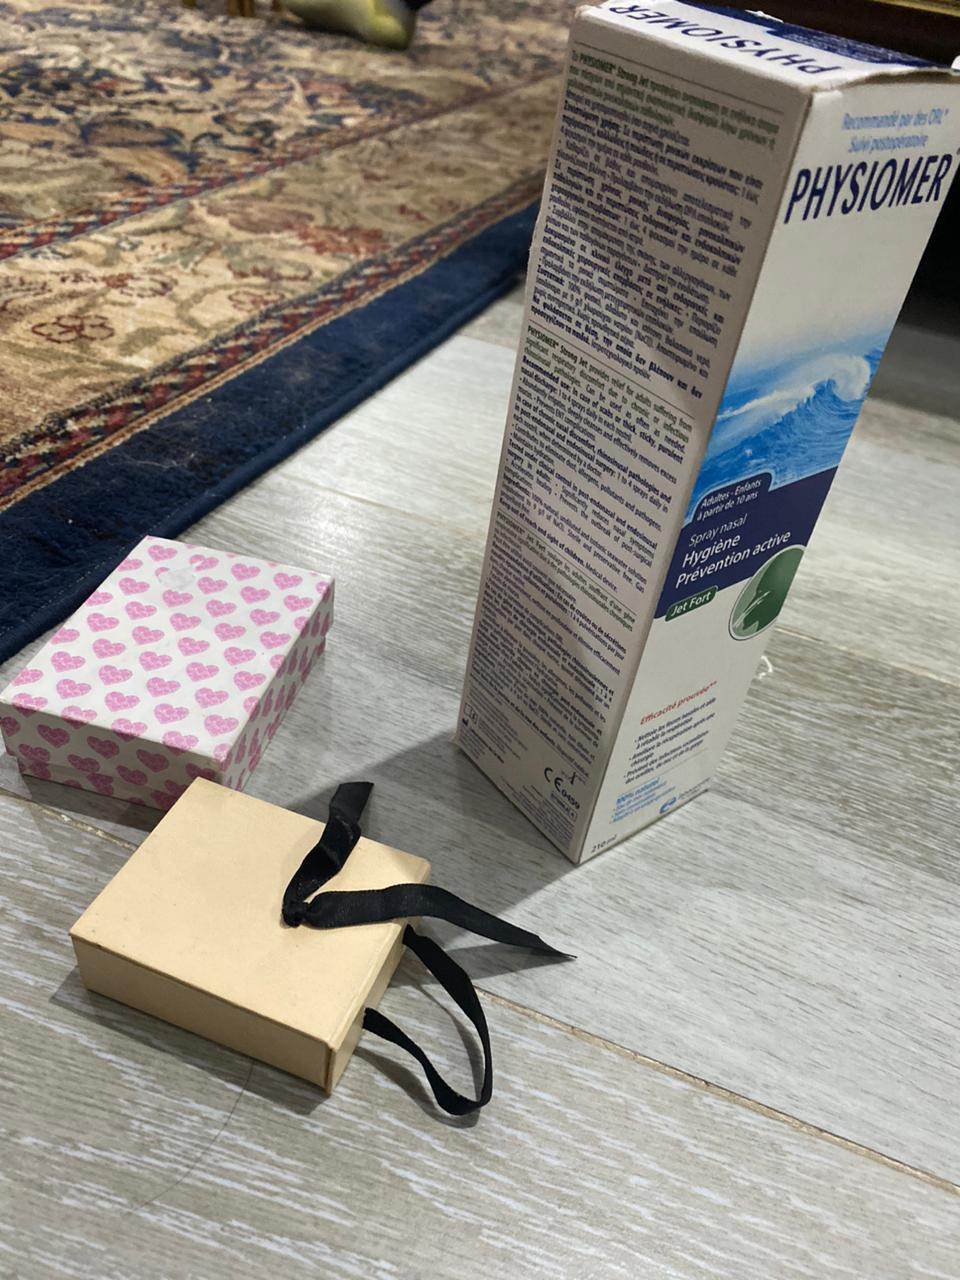Physiomer: (447, 2, 960, 879)
Pink Box: (10, 518, 346, 804)
Yellow Box: (61, 770, 434, 1097)
